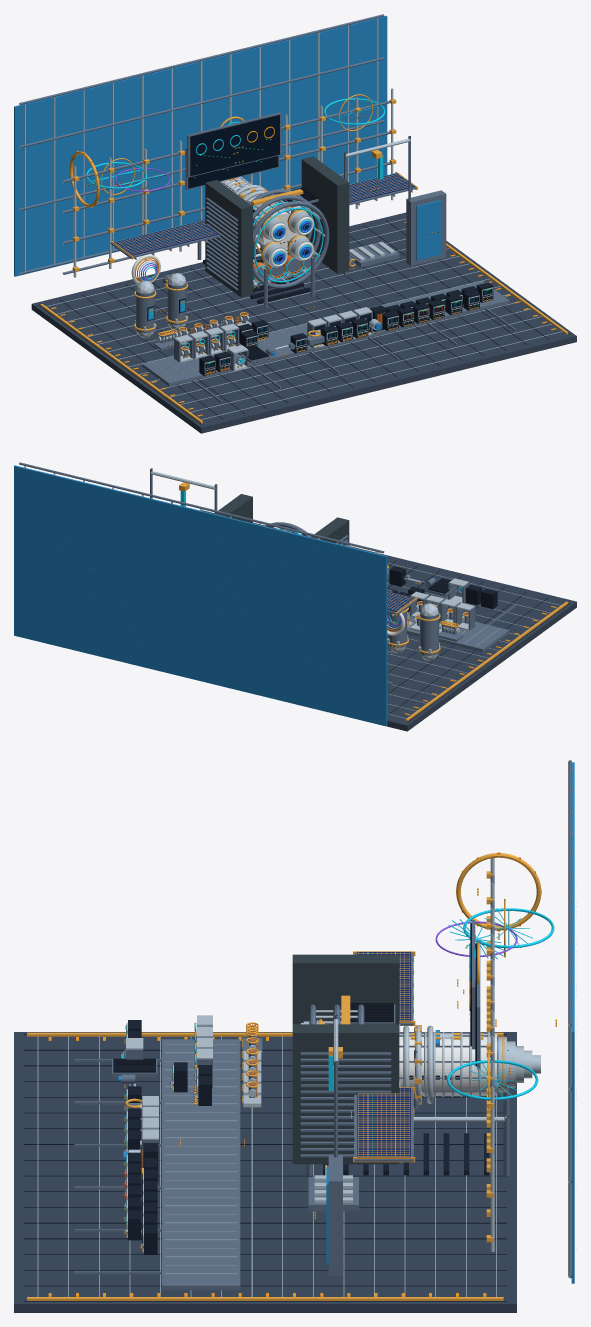
Rendered from Level90_Complete_ArtKit_Showcase.fbx.
3 views of the same model, one above another, from view 1: azimuth 30°, elevation 25°; view 2: azimuth 150°, elevation 25°; view 3: azimuth 270°, elevation 25° (orthographic). The views are drawn at different scales.
Visible parts, largest first — view 1: L90_EarthPanoramicObservationDome, L90_OrbitalPropulsionQualificationDeck, L90_PropulsionBayThermalContainment, L90_ExteriorOrbitalStationTruss, L90_MissionPropulsionSCADA, L90_PropulsionControlWalkway, L90_ThrusterPlasmaTestChamber, L90_Aurora1PortSolarArray_Part_0001, L90_ProtectedVentAndInterlockGate, L90_ProtectedVentAndInterlockGate_Part_0001, L90_MissionControlHologramWall, L90_Aurora1VehicleIntegrationStand (+8 smaller); view 2: L90_EarthPanoramicObservationDome, L90_OrbitalPropulsionQualificationDeck, L90_PropulsionBayThermalContainment, L90_PropulsionControlWalkway, L90_XenonStorageTankA, L90_XenonStorageTankB, L90_XenonFlowControllerA, L90_InspectionServiceGantry, L90_XenonHighPressureFillInterface, L90_ThermalControlPumpRack, L90_Aurora1PortSolarArray_Part_0001; view 3: L90_OrbitalPropulsionQualificationDeck, L90_PropulsionControlWalkway, L90_PropulsionBayThermalContainment, L90_EarthPanoramicObservationDome, L90_Aurora1StarboardSolarArray_Part_0001, L90_Aurora1MainFuselage_Part_0000, L90_ExteriorOrbitalStationTruss, L90_Aurora1VehicleIntegrationStand, L90_ProtectedVentAndInterlockGate, L90_Aurora1ForwardAvionicsNose, L90_Aurora1PayloadServiceRing_Part_0000, L90_Aurora1MainFuselage_Part_0001 (+9 smaller).
Part boxes in pixels (box(x1,y1,x2,y2)): L90_EarthPanoramicObservationDome: box(14, 14, 387, 276); L90_OrbitalPropulsionQualificationDeck: box(31, 212, 576, 433); L90_PropulsionBayThermalContainment: box(205, 156, 349, 297); L90_ExteriorOrbitalStationTruss: box(62, 88, 396, 277); L90_MissionPropulsionSCADA: box(187, 112, 281, 177); L90_PropulsionControlWalkway: box(142, 281, 509, 386); L90_ThrusterPlasmaTestChamber: box(249, 189, 329, 288); L90_Aurora1PortSolarArray_Part_0001: box(113, 220, 218, 255); L90_ProtectedVentAndInterlockGate: box(406, 190, 446, 265); L90_ProtectedVentAndInterlockGate_Part_0001: box(416, 200, 441, 260); L90_MissionControlHologramWall: box(185, 147, 279, 189); L90_Aurora1VehicleIntegrationStand: box(197, 219, 314, 308); L90_EarthPanoramicObservationDome: box(14, 462, 387, 726); L90_OrbitalPropulsionQualificationDeck: box(202, 510, 576, 731); L90_PropulsionBayThermalContainment: box(214, 494, 349, 546); L90_PropulsionControlWalkway: box(387, 609, 509, 652); L90_XenonStorageTankA: box(418, 603, 440, 660); L90_XenonStorageTankB: box(387, 607, 408, 653); L90_XenonFlowControllerA: box(455, 603, 475, 630); L90_InspectionServiceGantry: box(150, 468, 217, 512); L90_XenonHighPressureFillInterface: box(439, 621, 463, 641); L90_ThermalControlPumpRack: box(448, 578, 469, 603); L90_Aurora1PortSolarArray_Part_0001: box(387, 592, 414, 611); L90_OrbitalPropulsionQualificationDeck: box(14, 1032, 516, 1312); L90_PropulsionControlWalkway: box(162, 1039, 240, 1290); L90_PropulsionBayThermalContainment: box(292, 954, 399, 1164); L90_EarthPanoramicObservationDome: box(568, 760, 576, 1283); L90_Aurora1StarboardSolarArray_Part_0001: box(357, 1087, 410, 1157); L90_Aurora1MainFuselage_Part_0000: box(399, 1033, 497, 1095); L90_ExteriorOrbitalStationTruss: box(486, 858, 494, 1252); L90_Aurora1VehicleIntegrationStand: box(306, 1083, 509, 1175); L90_ProtectedVentAndInterlockGate: box(328, 1155, 342, 1275); L90_Aurora1ForwardAvionicsNose: box(498, 1036, 540, 1092); L90_Aurora1PayloadServiceRing_Part_0000: box(403, 1025, 433, 1104); L90_Aurora1MainFuselage_Part_0001: box(415, 1031, 489, 1097).
Size of the model in its own units: 3200 by 1563 by 2799.
